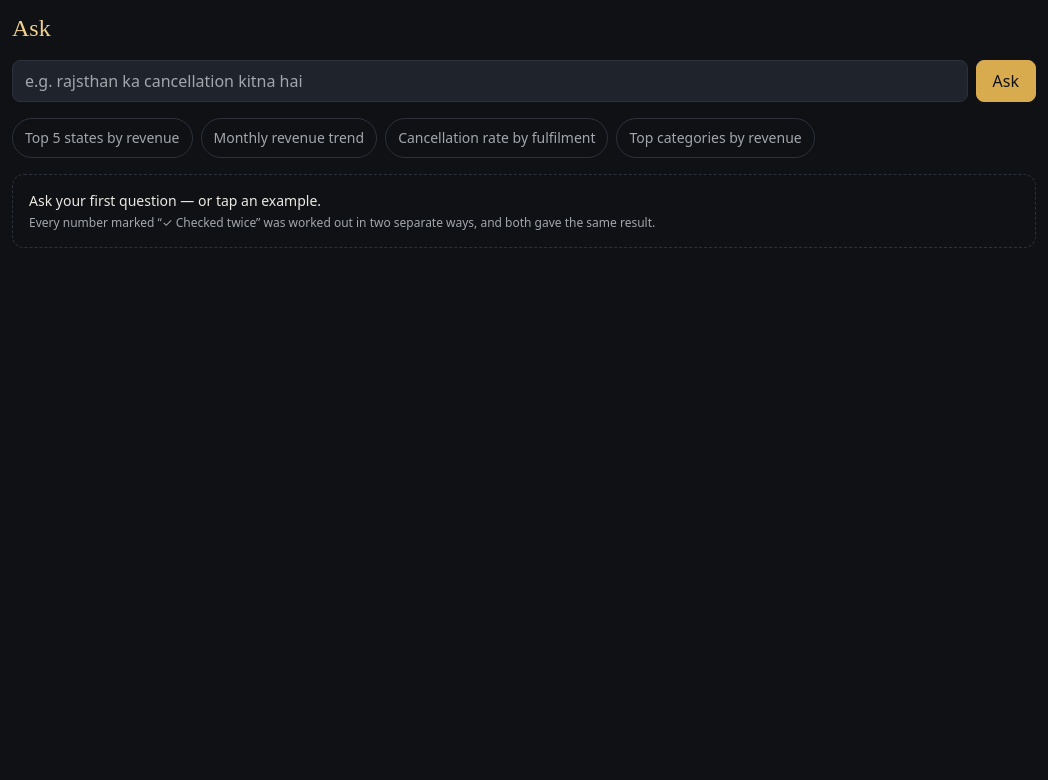
Test: Question history › shows the first-question hint and what Checked twice means only before the first question
The image size is (1048, 780).
Expected: the text "worked out in two separate ways" is shown, [29,214,655,231]
Click the button "Top 5 states by revenue".
click(102, 138)  # box [12,118,192,158]
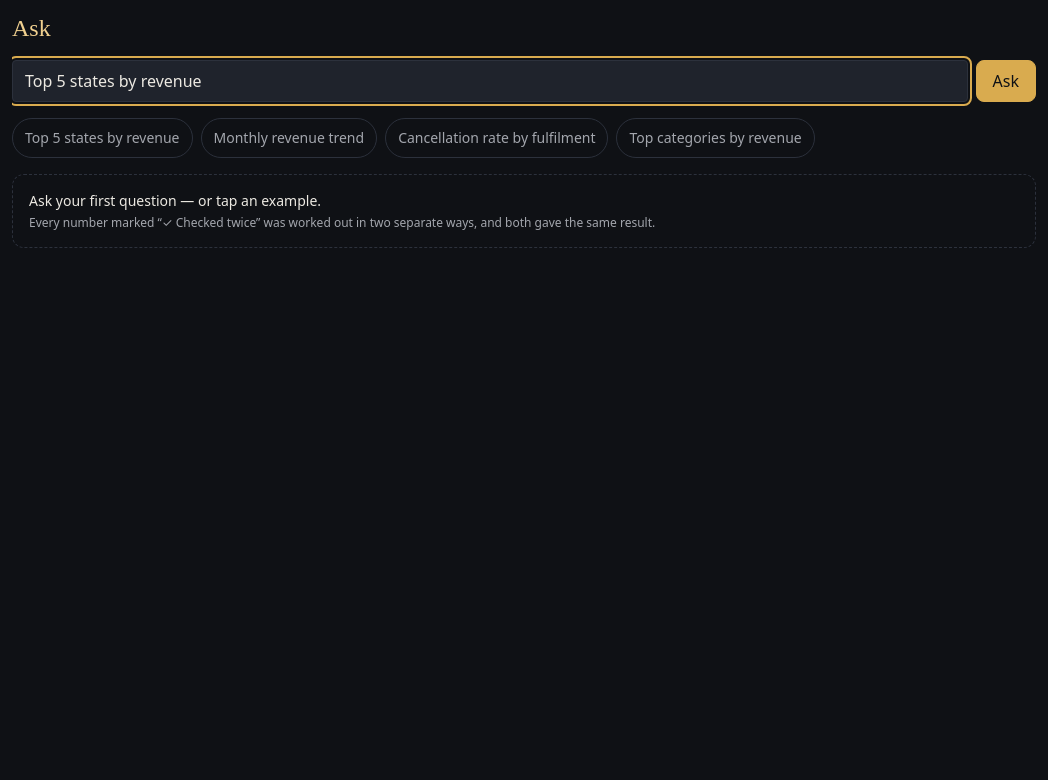
Click the button "Ask".
click(1006, 81)  # box [976,60,1036,102]
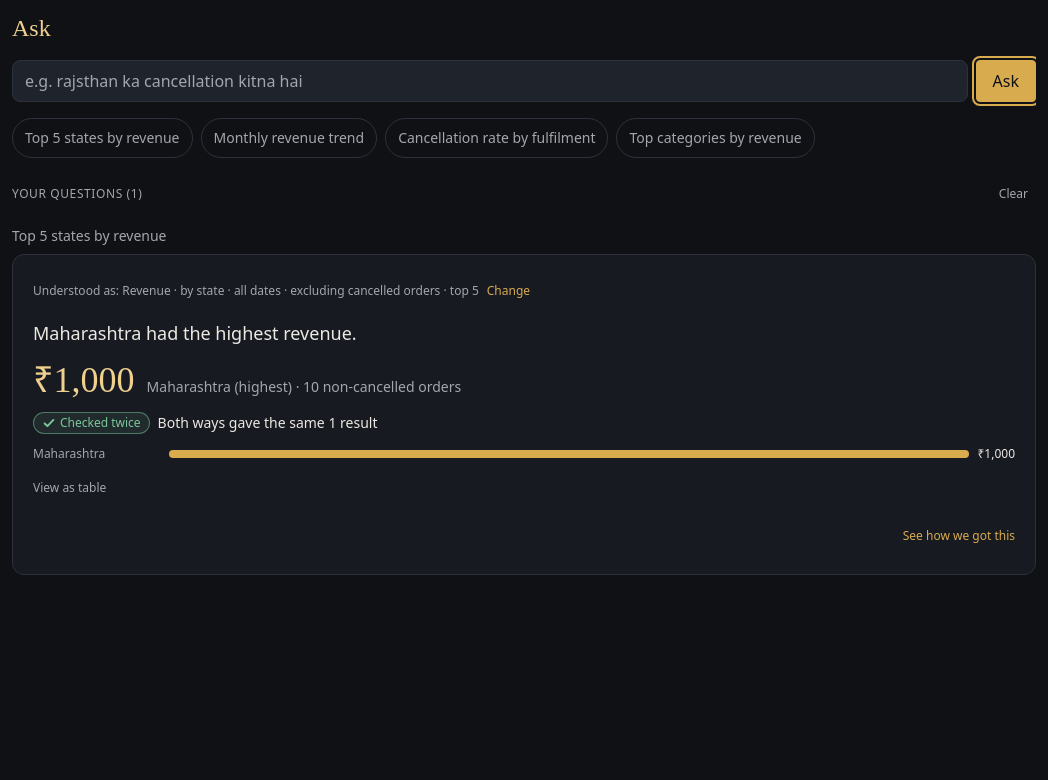
Expected: the text "Maharashtra had the highest revenue." is shown, [33,321,357,345]
Expected: the text "Ask your first question — or tap an example." is gone
